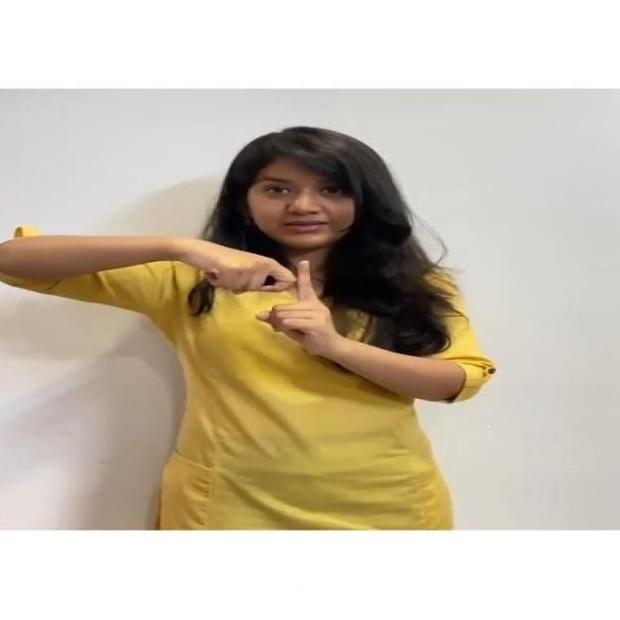J: (180, 228, 374, 386)
